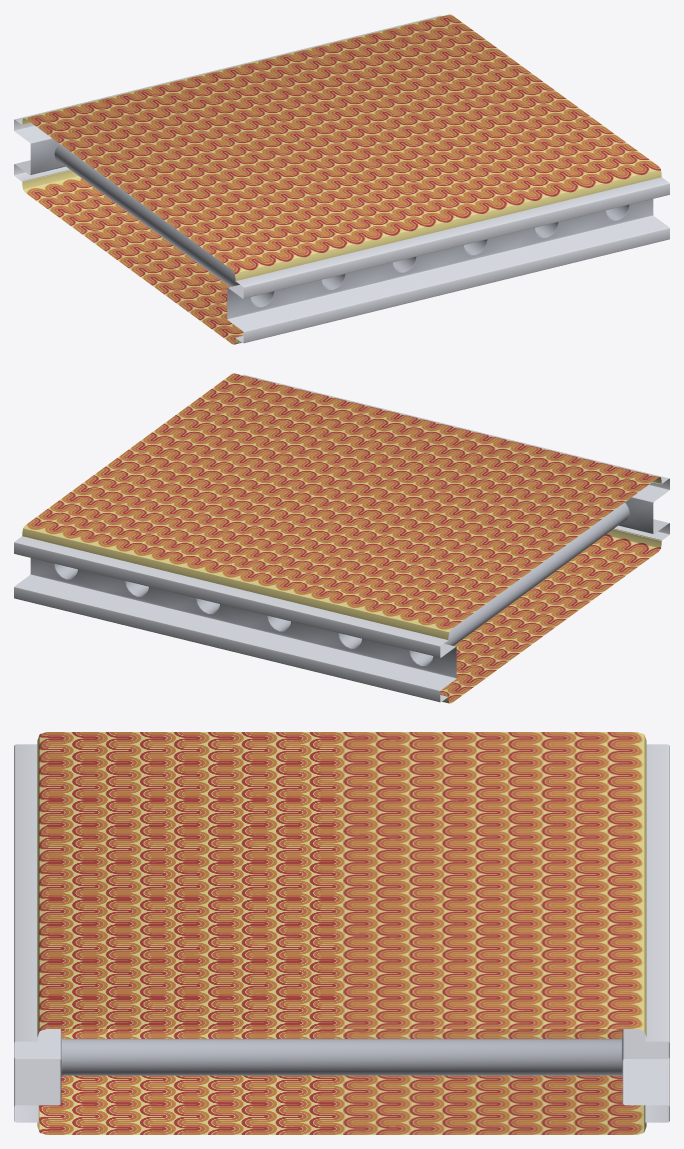
Rendered from SM_Wall_50x300.fbx.
3 renders of one model, top to bottom at view 1: azimuth 30°, elevation 25°; view 2: azimuth 150°, elevation 25°; view 3: azimuth 270°, elevation 25°, orthographic. The views are drawn at different scales.
Visible parts, largest first — view 1: SM_Wall_50x300; view 2: SM_Wall_50x300; view 3: SM_Wall_50x300.
Part boxes in pixels (box(x1,y1,x2,y2)): SM_Wall_50x300: box(14, 14, 669, 344); SM_Wall_50x300: box(14, 373, 669, 703); SM_Wall_50x300: box(14, 732, 669, 1134).
Size of the model in its own units: 300 by 280 by 49.9.
Materials: 1 (1 with a texture image).
